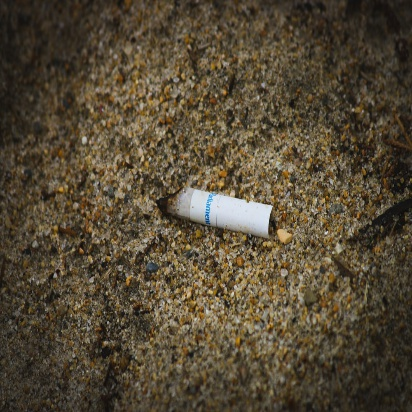cigarette: (166, 183, 281, 243)
